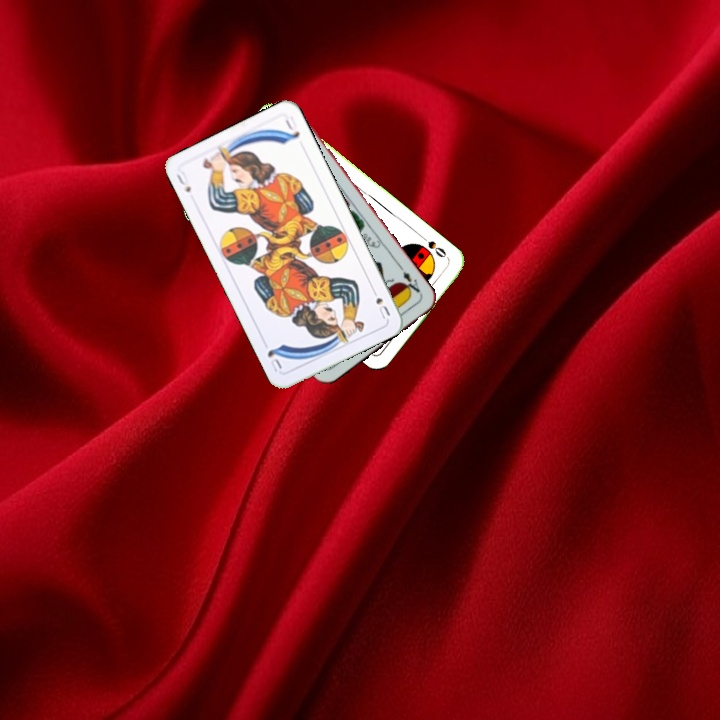EA: (399, 267, 424, 298)
SO: (423, 237, 449, 260)
SU: (367, 283, 393, 321), (172, 167, 194, 195)
